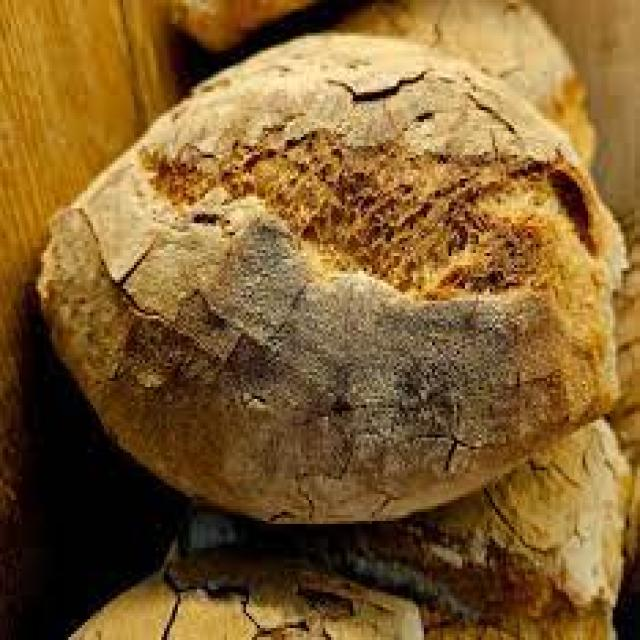Maltese-Bread: (38, 36, 624, 518)
